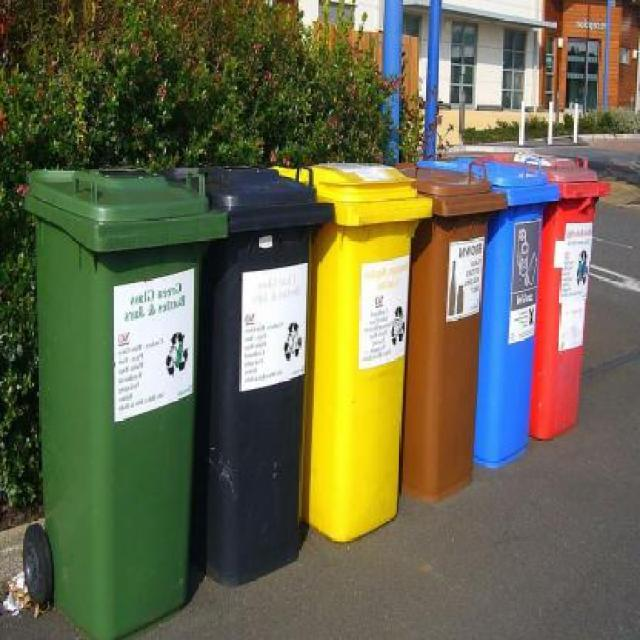garbage container: (10, 153, 212, 639), (190, 156, 313, 604), (304, 147, 413, 564), (402, 154, 489, 512), (526, 143, 614, 460), (482, 156, 543, 467)
